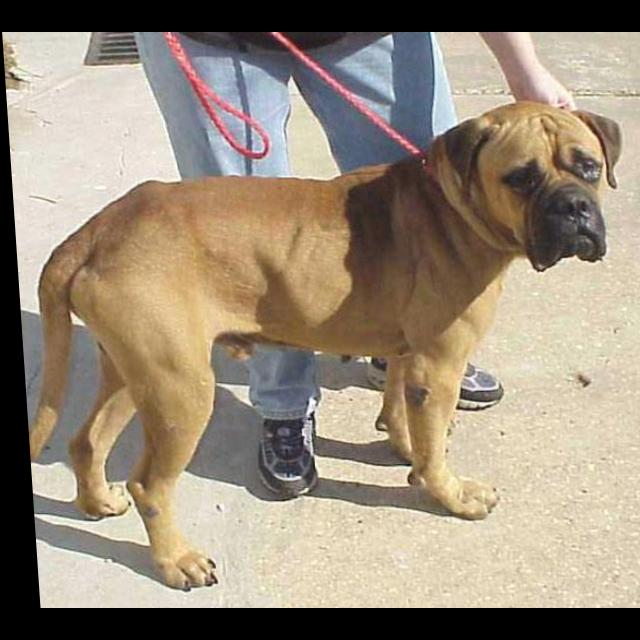bullmastiff: (6, 100, 640, 592)
person: (133, 34, 597, 501)
